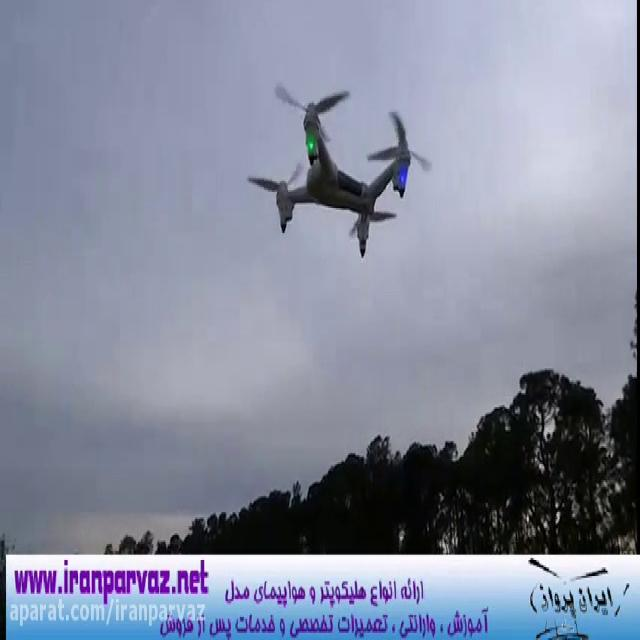drone: (243, 74, 436, 260)
